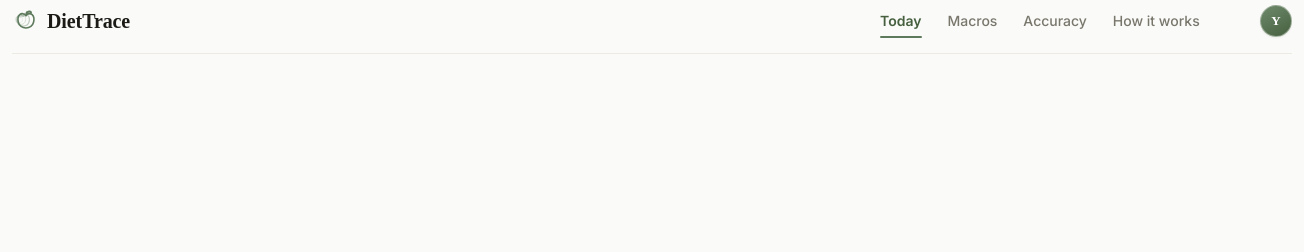
Test case: Header › folds Persona details + Reset into the account menu, not the tabs
This screenshot has width=1304, height=252.
Check: the text "your details" is not shown
Check: the text "reset everything" is not shown
Click the button named "account" at (1276, 20), box left=1260, top=4, right=1292, bottom=36
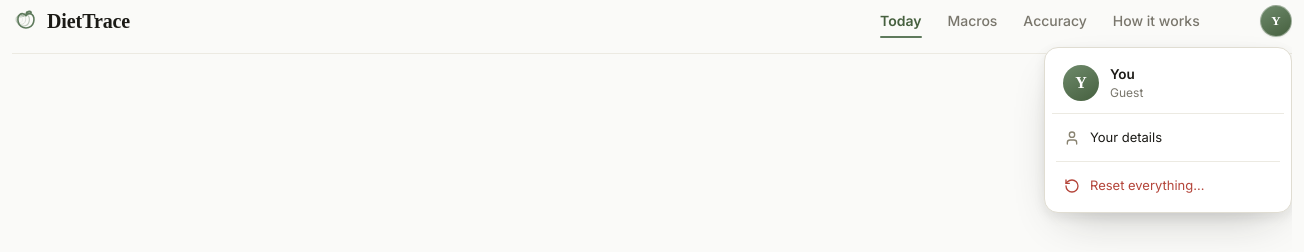
Check: the menu item "Your details" is shown, box left=1052, top=119, right=1284, bottom=156
Check: the menu item "Reset everything…" is shown, box left=1052, top=167, right=1284, bottom=205
